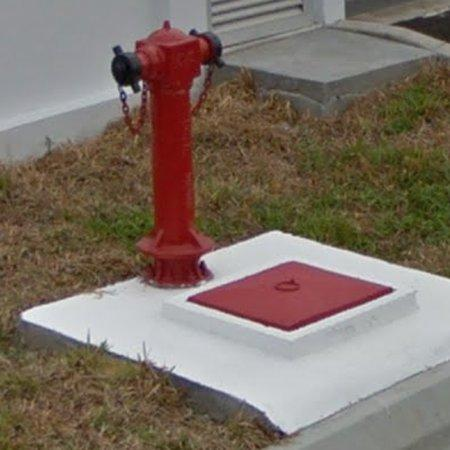a fire hydrant: (111, 20, 223, 288)
